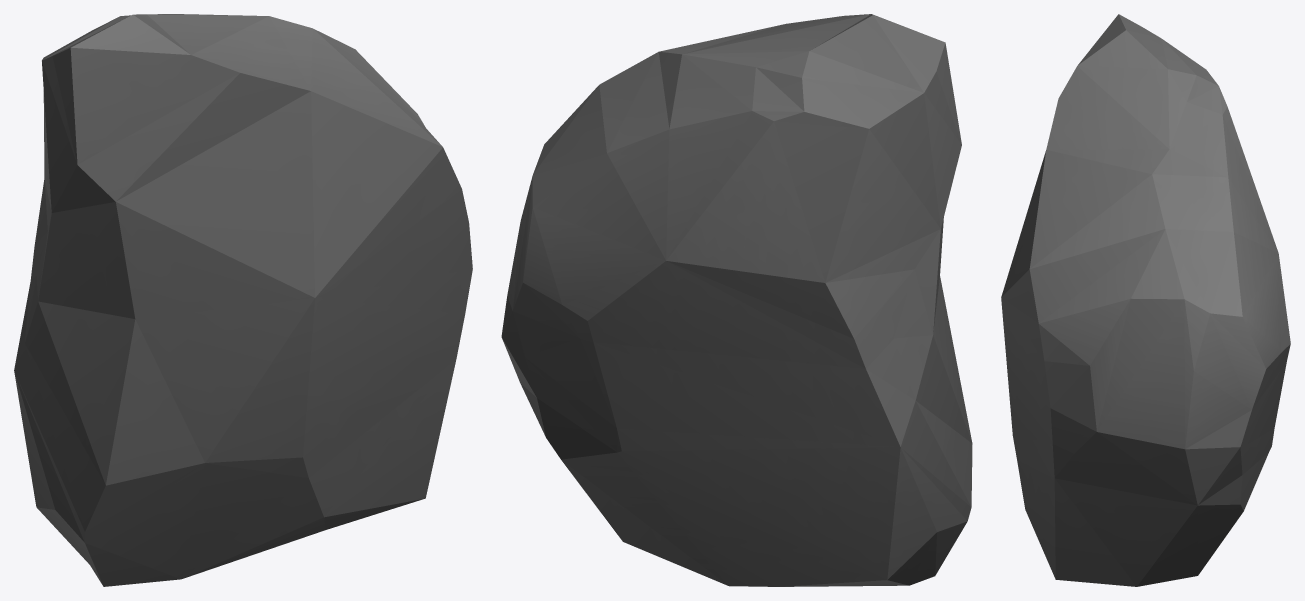
File: obsRock_02.fbx
3 renders of one model, left to right at view 1: azimuth 30°, elevation 25°; view 2: azimuth 150°, elevation 25°; view 3: azimuth 270°, elevation 25°, orthographic. The views are drawn at different scales.
Parts seen in each view (by area): view 1: obsRock_02; view 2: obsRock_02; view 3: obsRock_02.
Boxes of the visible parts, x1,y1,x2,y2 form: obsRock_02: [14, 14, 472, 586]; obsRock_02: [501, 14, 972, 586]; obsRock_02: [1001, 14, 1290, 586].
Size of the model in its own units: 508 by 666 by 369.
1 material, 1 textured.
